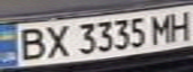3: (72, 20, 96, 56), (93, 18, 115, 53), (112, 17, 133, 51)
5: (127, 14, 151, 47)
B: (12, 25, 48, 62)
H: (166, 8, 193, 42)
M: (148, 10, 178, 44)
X: (39, 22, 72, 60)
